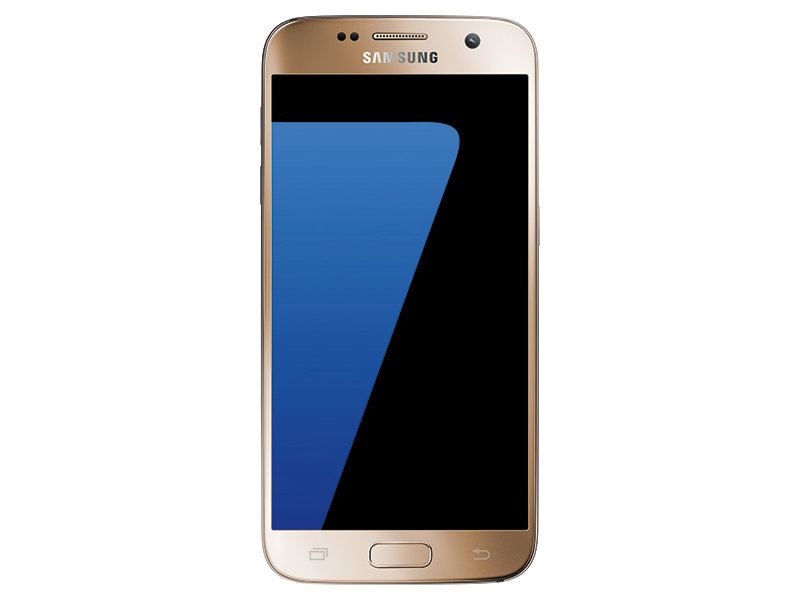mobile: (256, 10, 554, 586)
